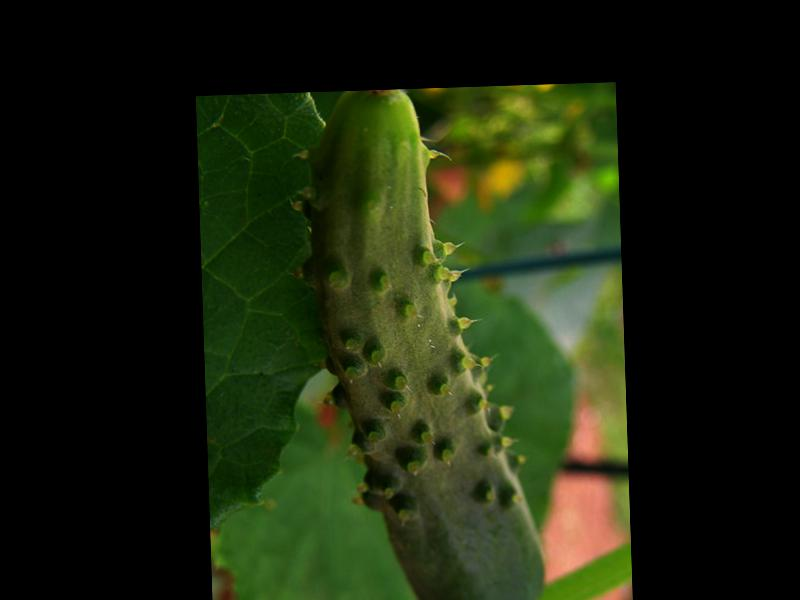Cucumber: (297, 88, 546, 600)
